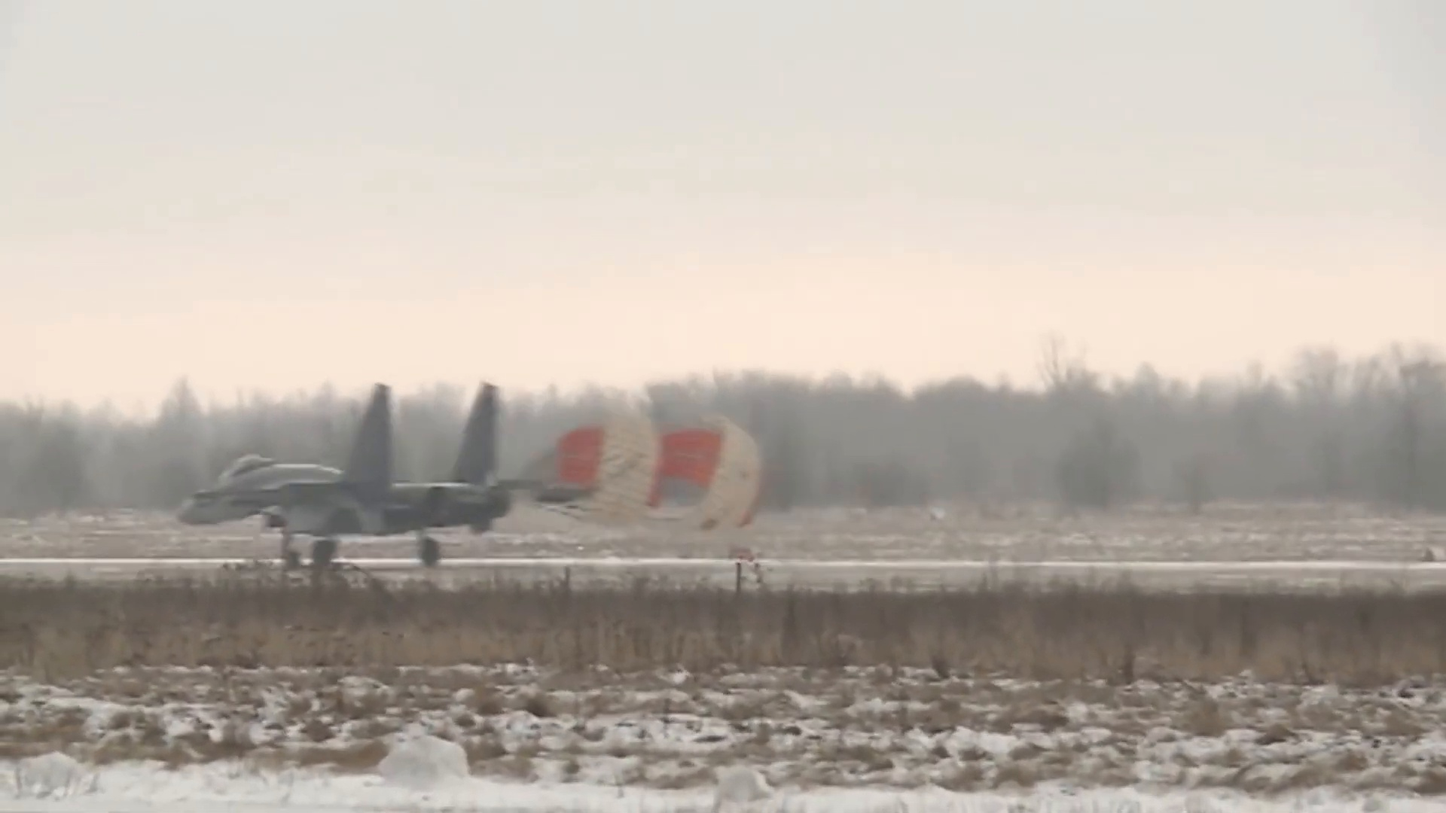Su35: (180, 382, 510, 562)
